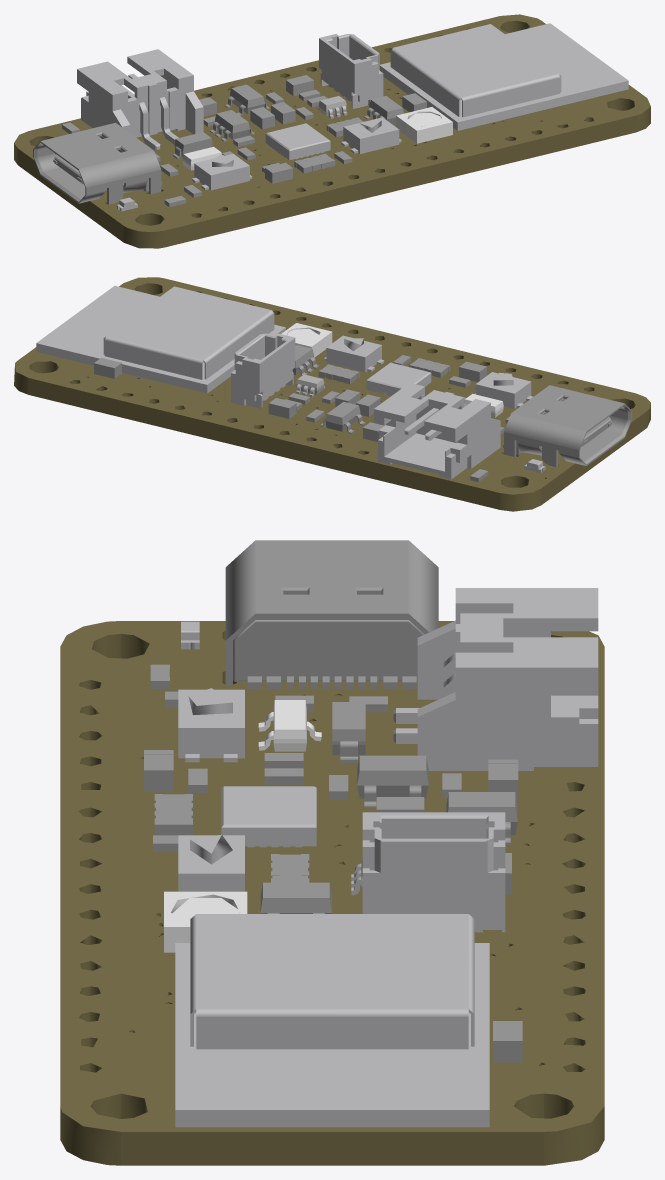
File: ada-5400.glb
3 views of the same model, one above another, from view 1: azimuth 30°, elevation 25°; view 2: azimuth 150°, elevation 25°; view 3: azimuth 270°, elevation 25° (orthographic). The views are drawn at different scales.
Parts seen in each view (by area): view 1: 0.16666666666666666_0.16666666666666666_0.08333333333333333_, 0.5833333333333334_0.5833333333333334_0.5833333333333334_0.8, 0.3333333333333333_0.3333333333333333_0.3333333333333333_0, 0.9166666666666666_0.9166666666666666_0.9166666666666666_0.8, 0.5_0.5_0.5_0.85; view 2: 0.16666666666666666_0.16666666666666666_0.08333333333333333_, 0.5833333333333334_0.5833333333333334_0.5833333333333334_0.8, 0.3333333333333333_0.3333333333333333_0.3333333333333333_0, 0.9166666666666666_0.9166666666666666_0.9166666666666666_0.8, 0.5_0.5_0.5_0.85; view 3: 0.16666666666666666_0.16666666666666666_0.08333333333333333_, 0.5833333333333334_0.5833333333333334_0.5833333333333334_0.8, 0.3333333333333333_0.3333333333333333_0.3333333333333333_0, 0.9166666666666666_0.9166666666666666_0.9166666666666666_0.8.
Boxes of the visible parts, <box> form: 0.16666666666666666_0.16666666666666666_0.08333333333333333_: <box>14,14,650,248</box>; 0.5833333333333334_0.5833333333333334_0.5833333333333334_0.8: <box>55,23,628,211</box>; 0.3333333333333333_0.3333333333333333_0.3333333333333333_0: <box>33,75,426,207</box>; 0.9166666666666666_0.9166666666666666_0.9166666666666666_0.8: <box>182,107,452,170</box>; 0.5_0.5_0.5_0.85: <box>318,96,347,118</box>; 0.16666666666666666_0.16666666666666666_0.08333333333333333_: <box>14,277,650,511</box>; 0.5833333333333334_0.5833333333333334_0.5833333333333334_0.8: <box>36,286,609,479</box>; 0.3333333333333333_0.3333333333333333_0.3333333333333333_0: <box>94,345,632,481</box>; 0.9166666666666666_0.9166666666666666_0.9166666666666666_0.8: <box>281,323,503,417</box>; 0.5_0.5_0.5_0.85: <box>296,374,324,397</box>; 0.16666666666666666_0.16666666666666666_0.08333333333333333_: <box>60,621,604,1165</box>; 0.5833333333333334_0.5833333333333334_0.5833333333333334_0.8: <box>175,588,598,1127</box>; 0.3333333333333333_0.3333333333333333_0.3333333333333333_0: <box>144,540,522,1062</box>; 0.9166666666666666_0.9166666666666666_0.9166666666666666_0.8: <box>164,700,321,952</box>.
Bounding box in the file's own units: 5.19 × 0.637 × 2.29.
